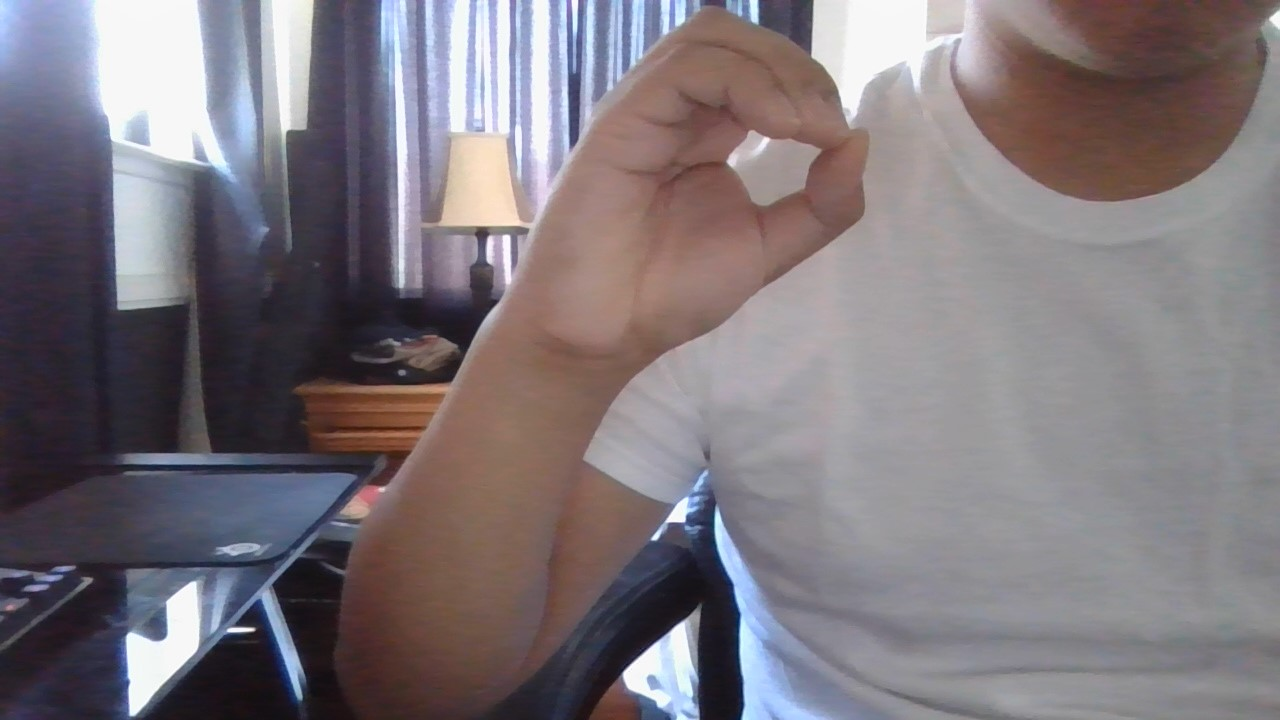o: (489, 1, 897, 370)
